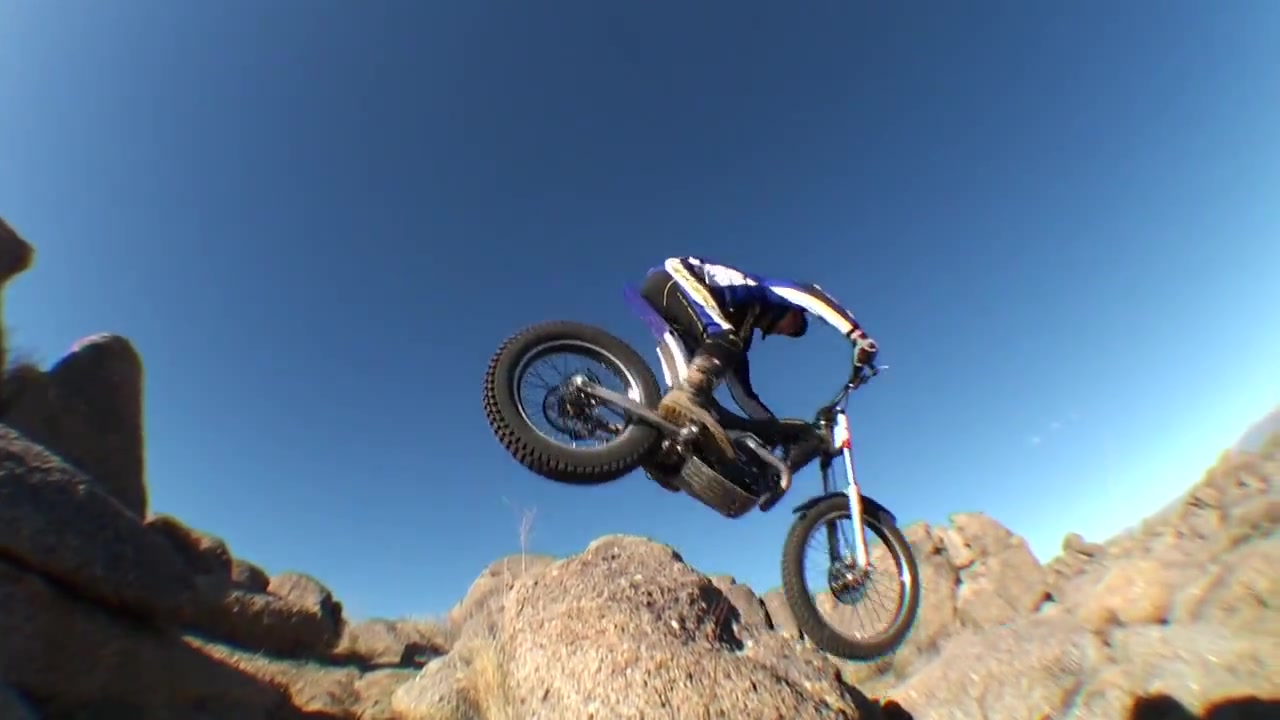motorbike: (482, 280, 922, 660)
